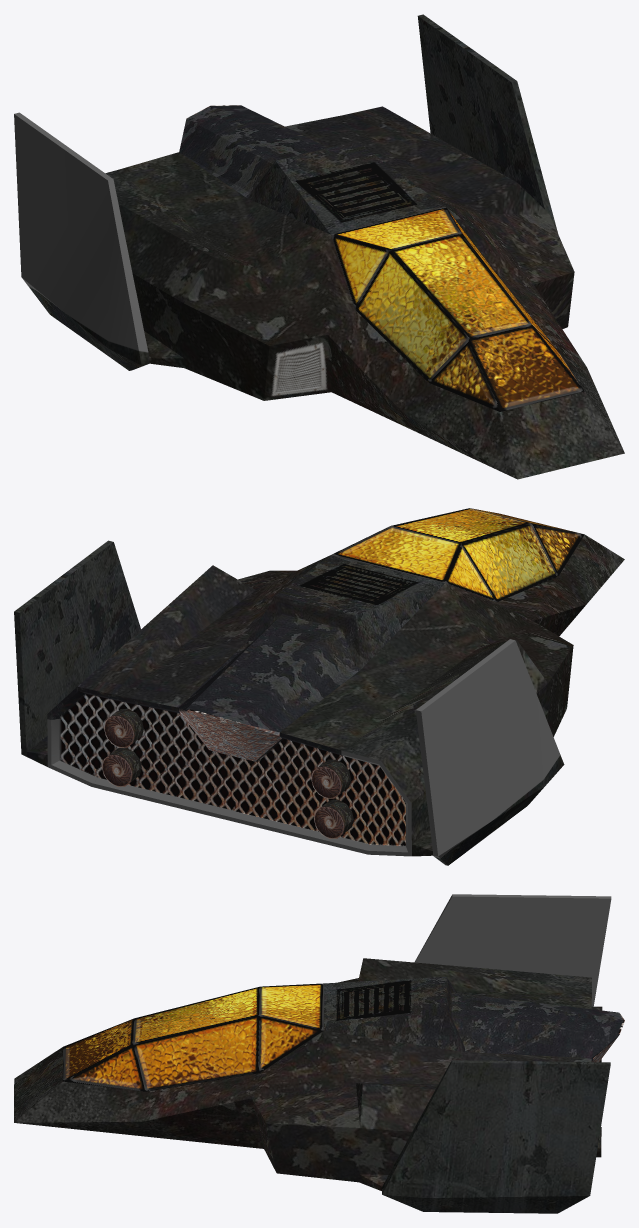
The model's file is Kadri_Omar_BlueFalcon_Unwrap.FBX.
The picture shows the model from 3 angles, top to bottom: view 1: azimuth 30°, elevation 25°; view 2: azimuth 150°, elevation 25°; view 3: azimuth 270°, elevation 25°; orthographic projection. The views are drawn at different scales.
Size of the model in its own units: 512 by 203 by 734.
